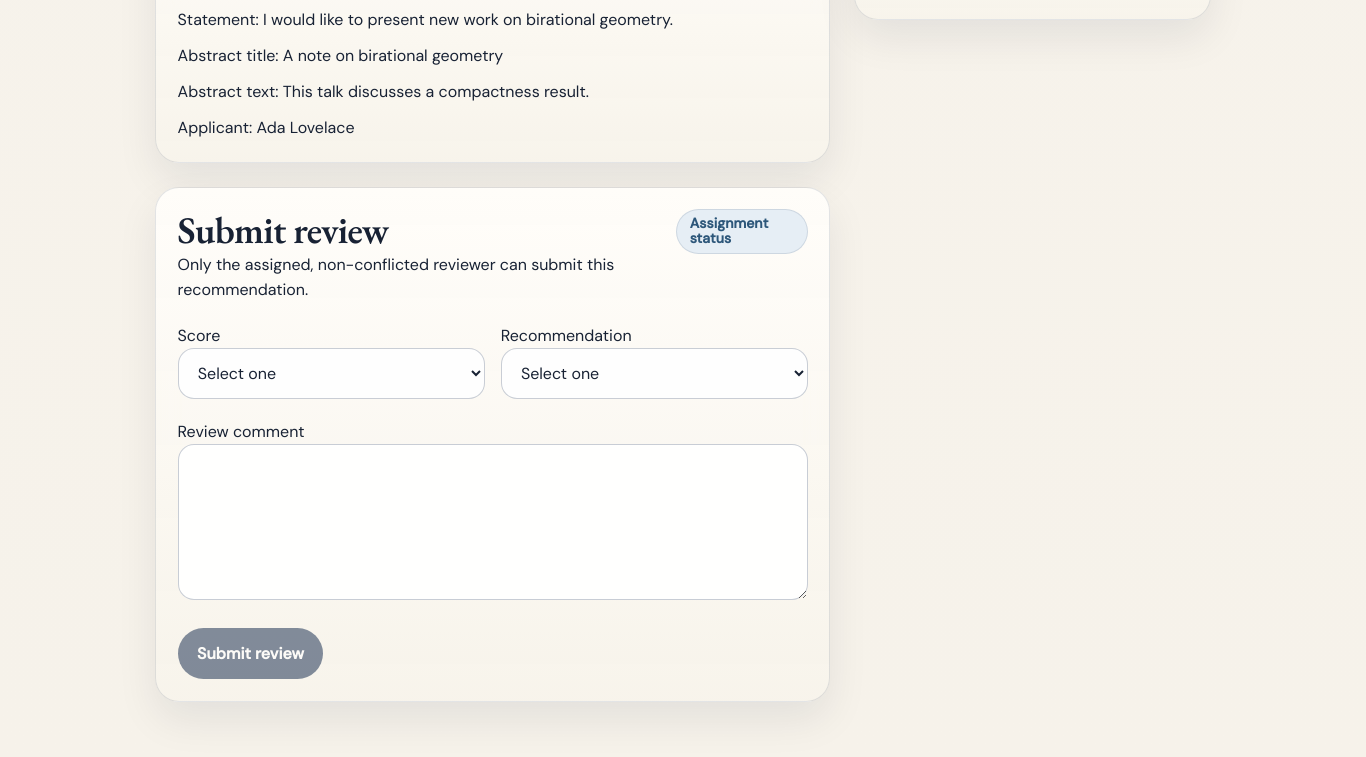
it: review workspaces › shows reviewer queue items and allows review submission for clear assignments
(page scrolled)
Select "4" in the dropdown labelled "Score": x=331, y=374 [178,348,485,399]
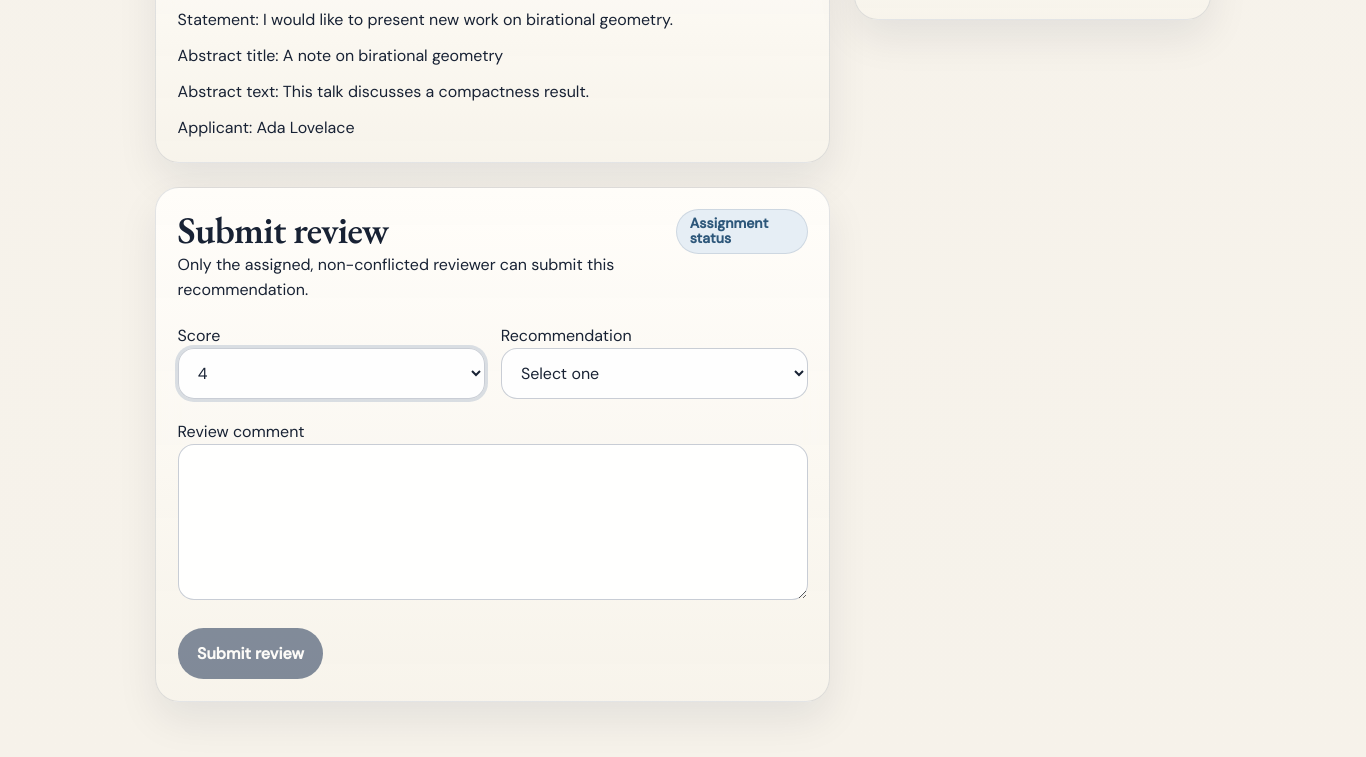
Select "accept" in the dropdown labelled "Recommendation": x=654, y=374 [501,348,808,399]
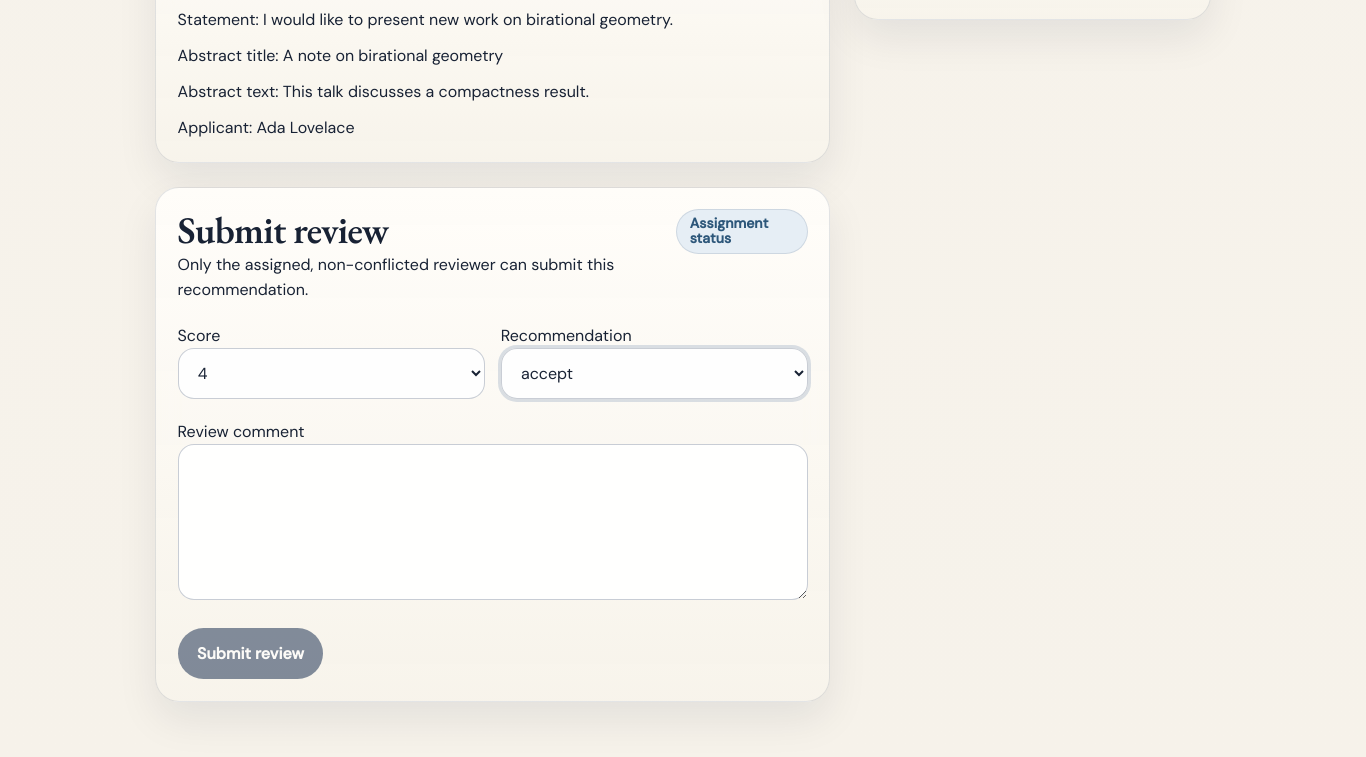
In the text box labelled "Review comment": x=493, y=522 [178,444,808,600], type "Strong application with a clear research direction."
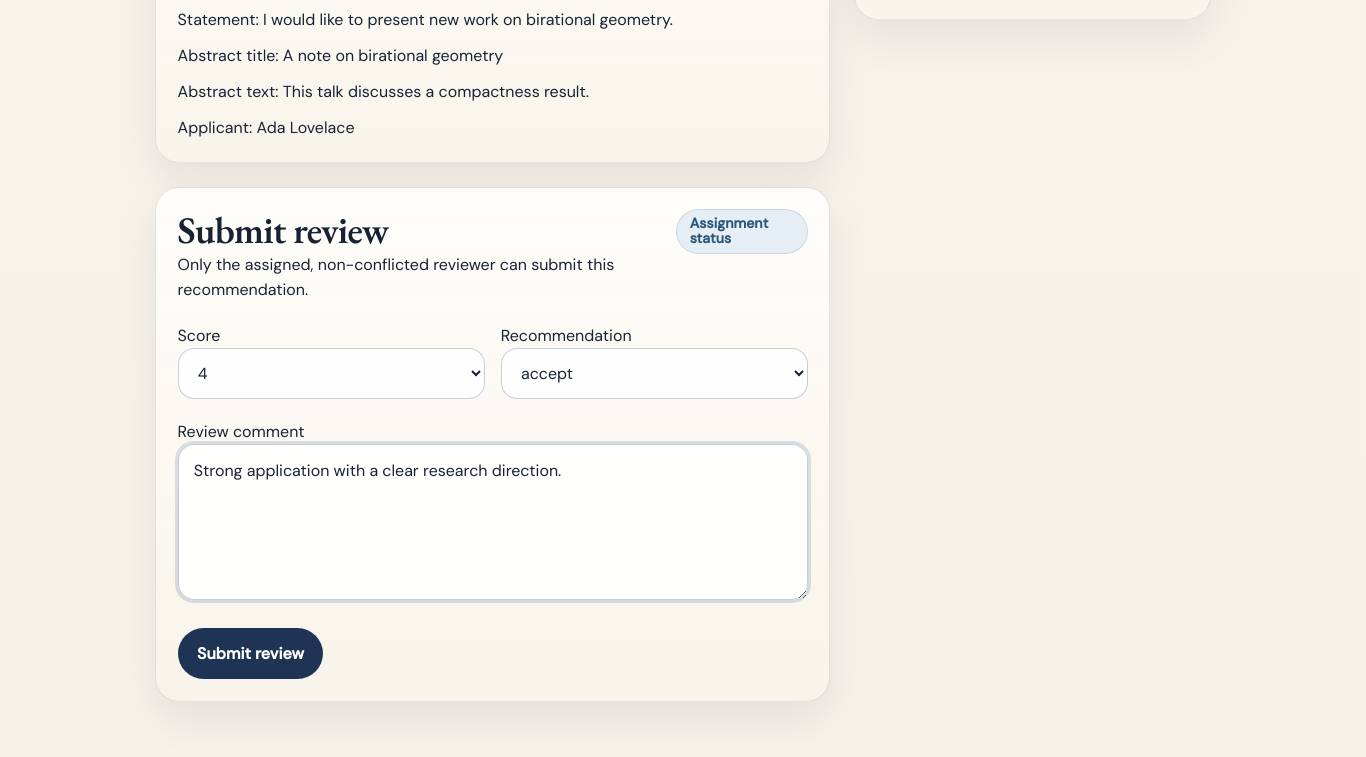
Click the button "Submit review": x=250, y=653 [178,628,323,679]
(page scrolled)
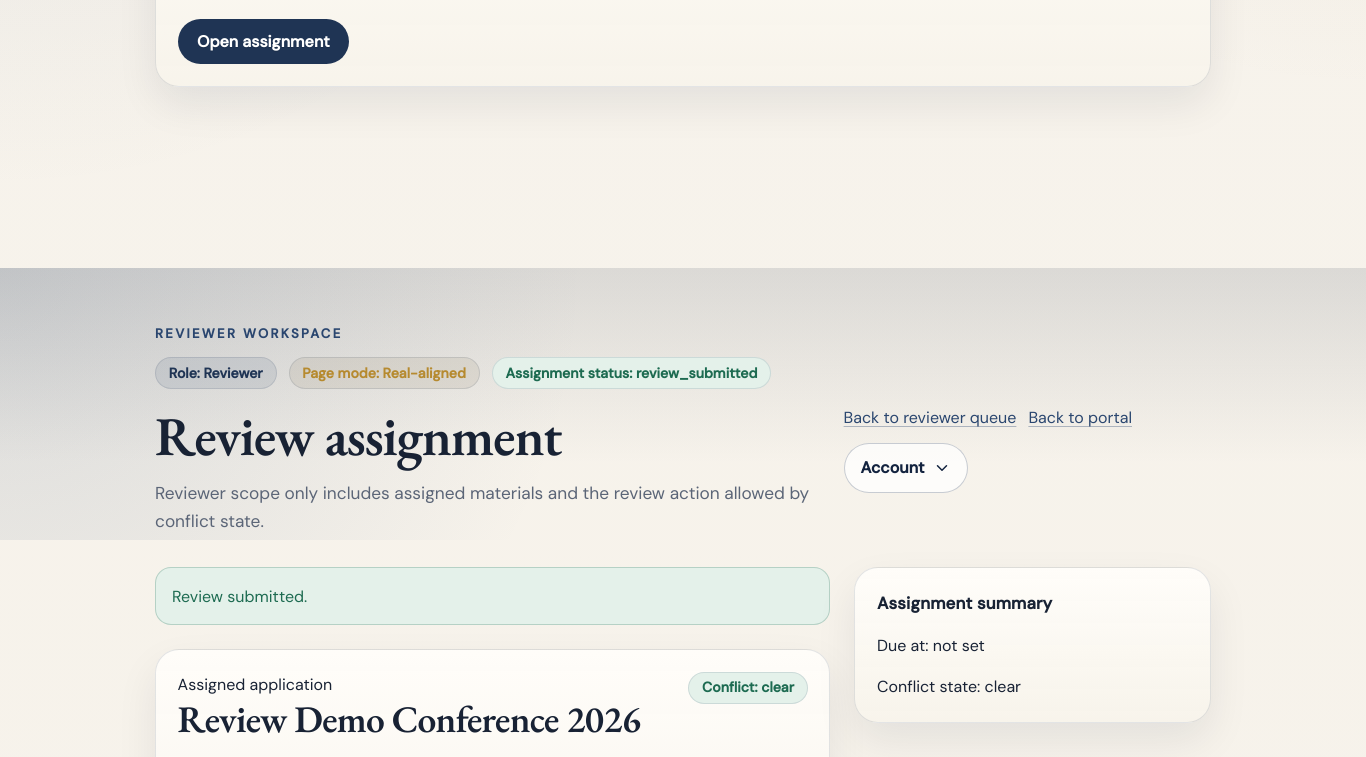
Expected: the text "Review submitted." is shown, [155,567,830,625]
Expected: the text "Assignment status: review_submitted" is shown, [492,357,771,389]
